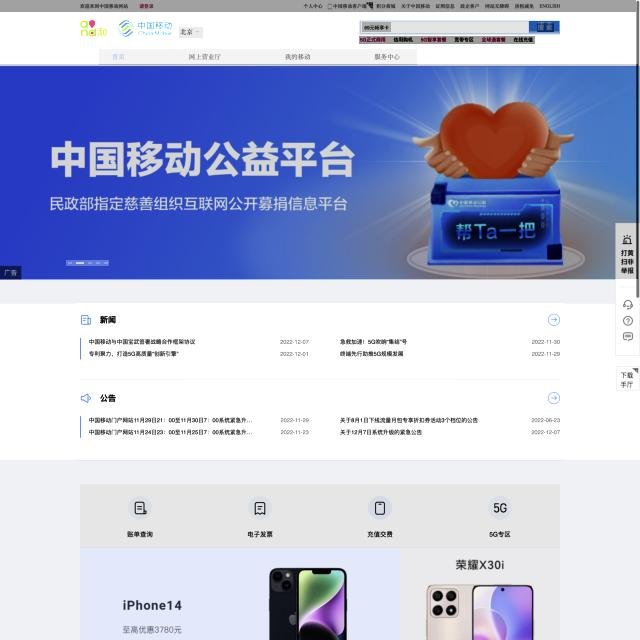CheckBox: (529, 22, 559, 34)
CheckedTextView: (359, 21, 560, 35)
EditText-: (80, 484, 560, 548)
QR code: (75, 304, 565, 462)
alert: (179, 27, 203, 38)
card: (0, 64, 638, 279)
data feed: (537, 24, 554, 32)
date picker: (76, 17, 176, 40)
decoration: (0, 0, 636, 12), (99, 49, 417, 65), (359, 36, 535, 44)
dropdown: (66, 260, 109, 266)
footer: (362, 22, 391, 32)
